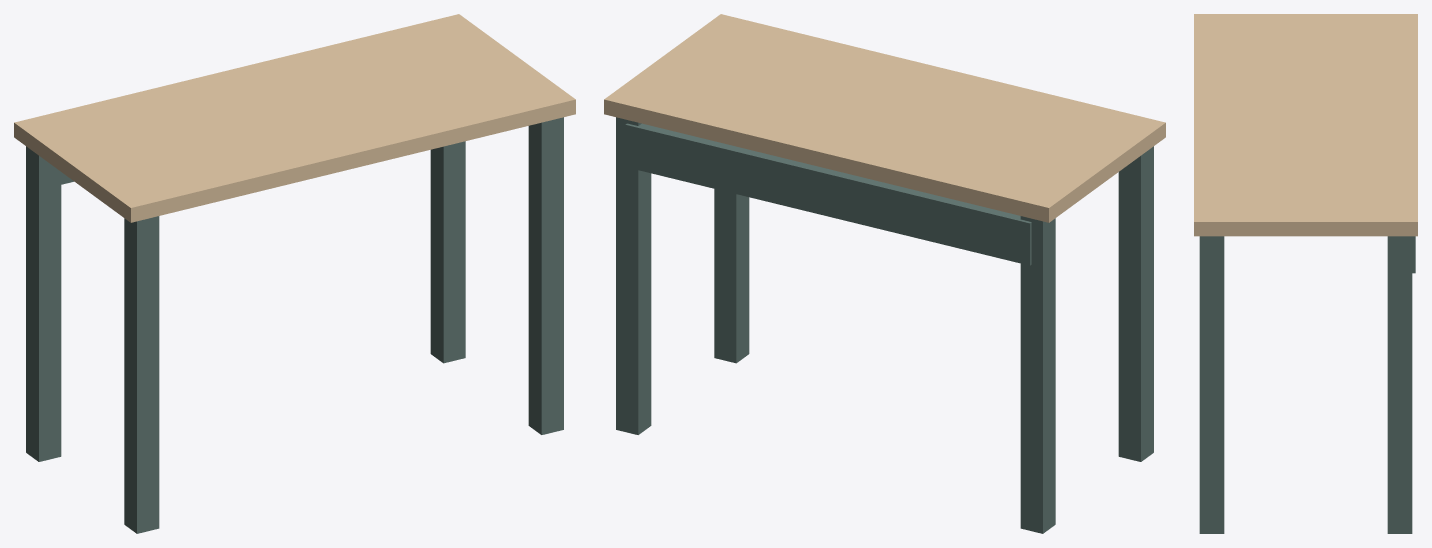
3 renders of one model, left to right at view 1: azimuth 30°, elevation 25°; view 2: azimuth 150°, elevation 25°; view 3: azimuth 270°, elevation 25°, orthographic. The views are drawn at different scales.
Visible parts, largest first — view 1: vanity-top, vanity-leg-left-front, vanity-leg-right-front, vanity-leg-left-back, vanity-leg-right-back; view 2: vanity-top, vanity-back-brace, vanity-leg-left-front, vanity-leg-left-back, vanity-leg-right-back, vanity-leg-right-front; view 3: vanity-top, vanity-leg-right-back, vanity-leg-right-front.
Part boxes in pixels (bbox=[...]): vanity-top: bbox=[14, 14, 575, 222]; vanity-leg-left-front: bbox=[124, 216, 159, 533]; vanity-leg-right-front: bbox=[528, 117, 563, 434]; vanity-leg-left-back: bbox=[26, 146, 61, 461]; vanity-leg-right-back: bbox=[430, 141, 465, 363]; vanity-top: bbox=[604, 14, 1165, 222]; vanity-back-brace: bbox=[625, 123, 1031, 265]; vanity-leg-left-front: bbox=[1118, 146, 1153, 461]; vanity-leg-left-back: bbox=[1020, 216, 1055, 533]; vanity-leg-right-back: bbox=[616, 117, 651, 434]; vanity-leg-right-front: bbox=[714, 189, 749, 363]; vanity-top: bbox=[1194, 14, 1417, 236]; vanity-leg-right-back: bbox=[1387, 236, 1412, 533]; vanity-leg-right-front: bbox=[1199, 236, 1224, 533].
Bounding box in the file's own units: 1.1 × 0.78 × 0.5.
